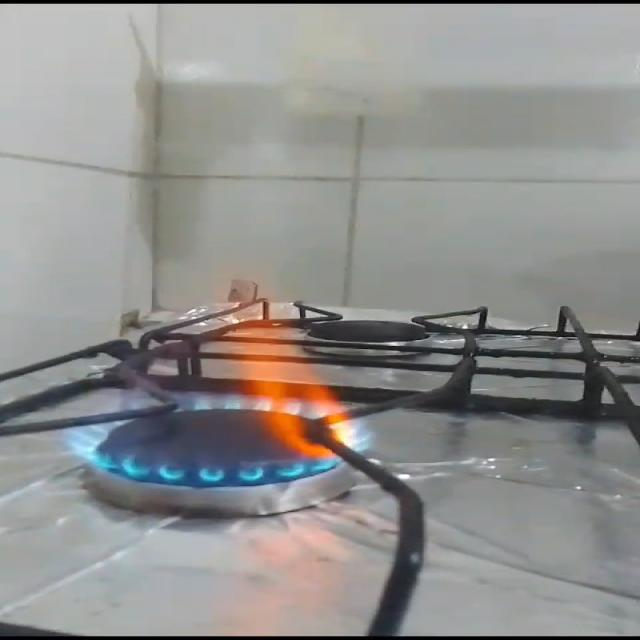fogo-ypXI: (52, 240, 375, 489)
